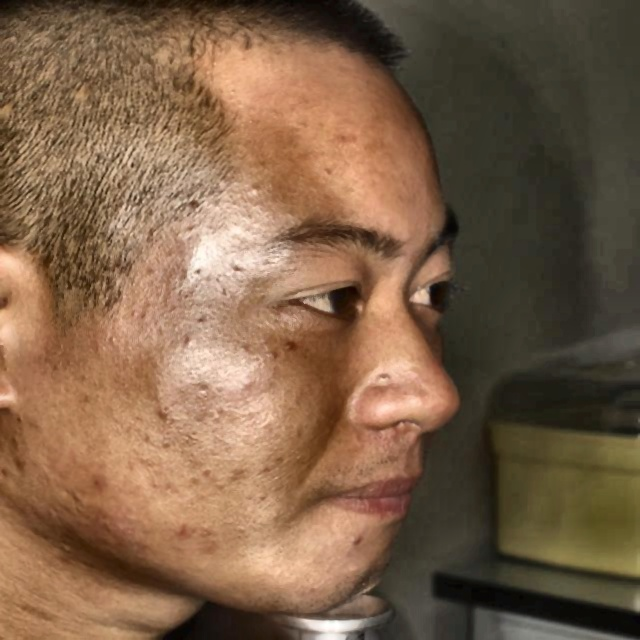comedone: (83, 464, 112, 504), (145, 388, 174, 426), (168, 510, 189, 547), (337, 529, 372, 549)
